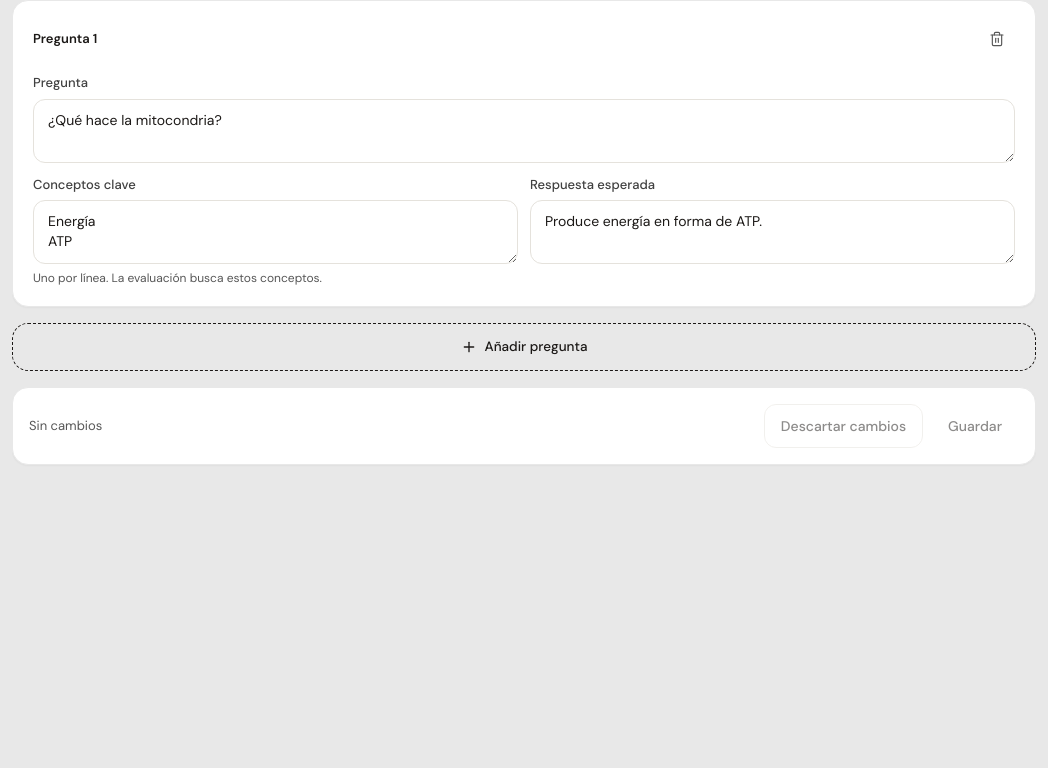
Test: RecallQuestionsEditor › saves an edit with its loaded version and the key concepts as a list
Replace the text in the text box labelled "Pregunta" with "¿Nueva?": (524, 130) x1=33 y1=98 x2=1015 y2=162
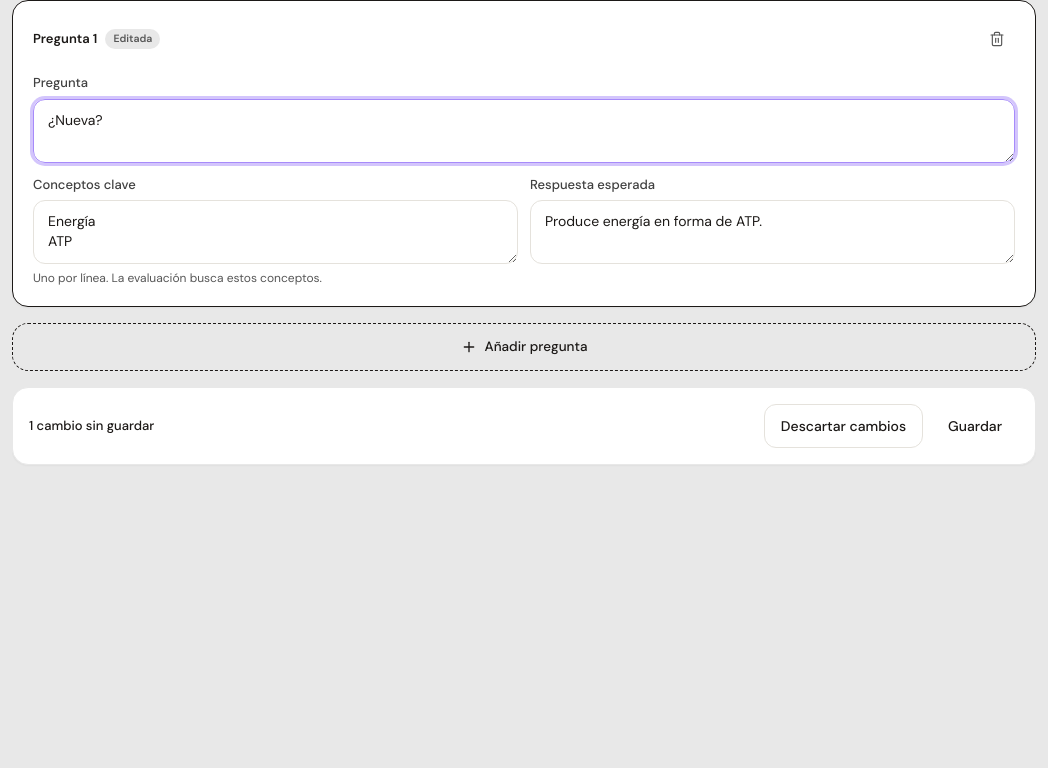
Click the button "Guardar": (975, 426) x1=931 y1=404 x2=1019 y2=448
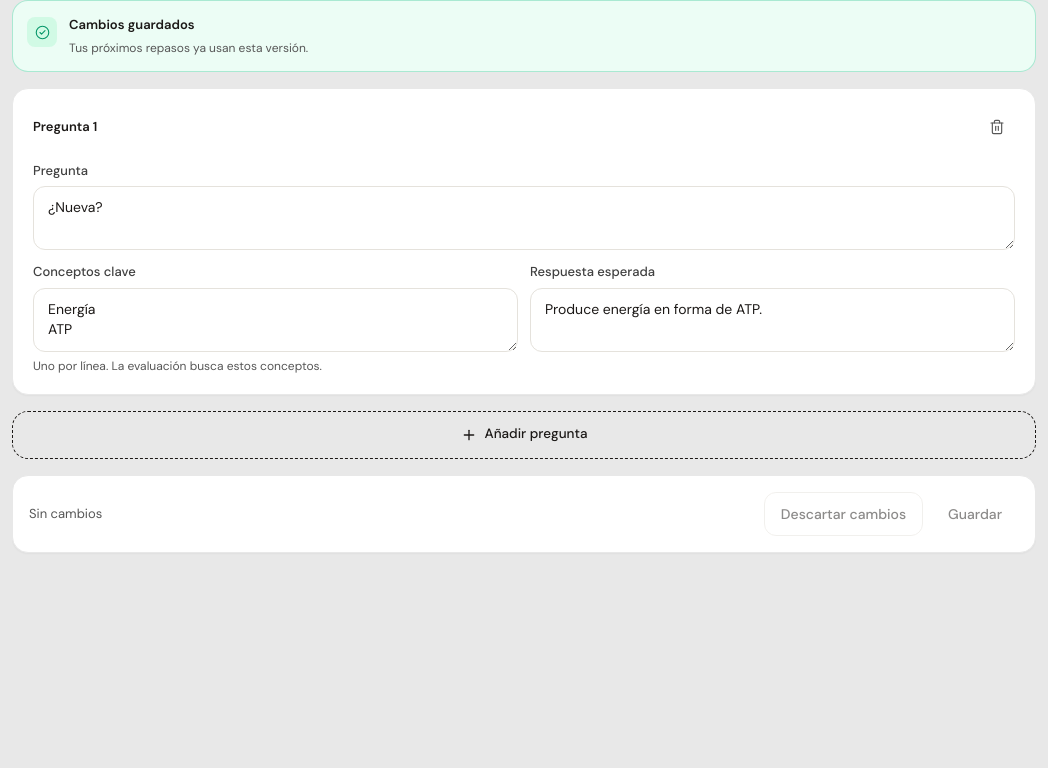
Check: the text "Cambios guardados" is shown, box x1=69 y1=16 x2=194 y2=33
